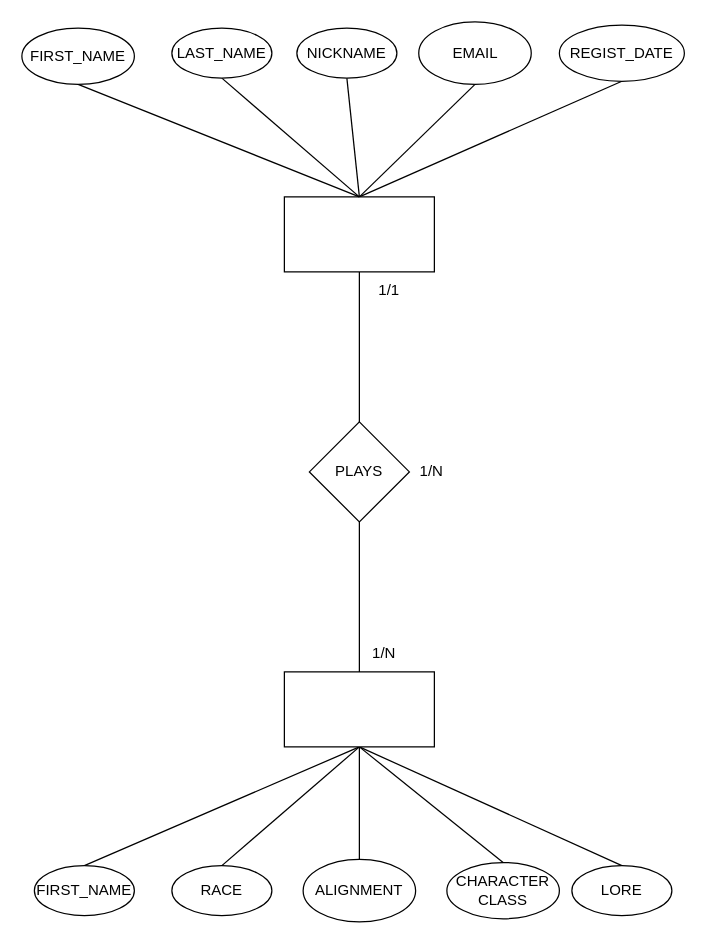
The diagram is 706 pixels wide and 944 high, and some of its shapes have lost their labels. The shapes that lost their labels are listed below. From the top down, each one's centre as x and y in pixels, then its label:
the point at 358,234: PLAYERS
the point at 358,709: CHARACTERS
